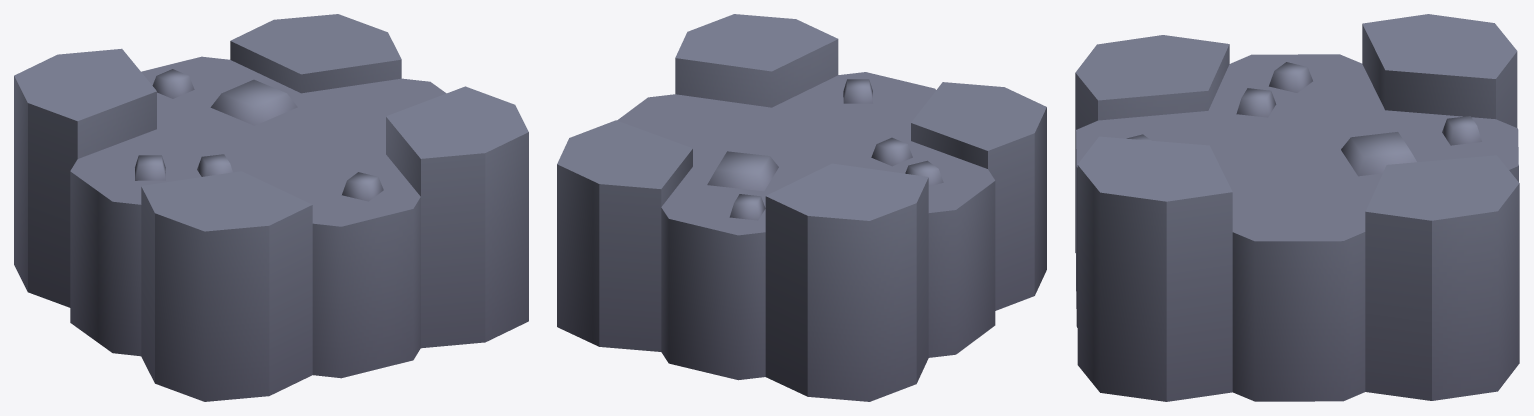
The model's file is rocks.004_lev5.glb.
The picture shows the model from 3 angles, left to right: view 1: azimuth 30°, elevation 25°; view 2: azimuth 150°, elevation 25°; view 3: azimuth 270°, elevation 25°; orthographic projection. The views are drawn at different scales.
Visible parts, largest first — view 1: rocks.004_lev5; view 2: rocks.004_lev5; view 3: rocks.004_lev5.
Part boxes in pixels (left/top/right/bottom): rocks.004_lev5: left=14, top=14, right=528, bottom=401; rocks.004_lev5: left=557, top=14, right=1046, bottom=401; rocks.004_lev5: left=1075, top=14, right=1519, bottom=401.
Size of the model in its own units: 4.02 by 2 by 4.02.
Materials: 1 (1 with a texture image).
